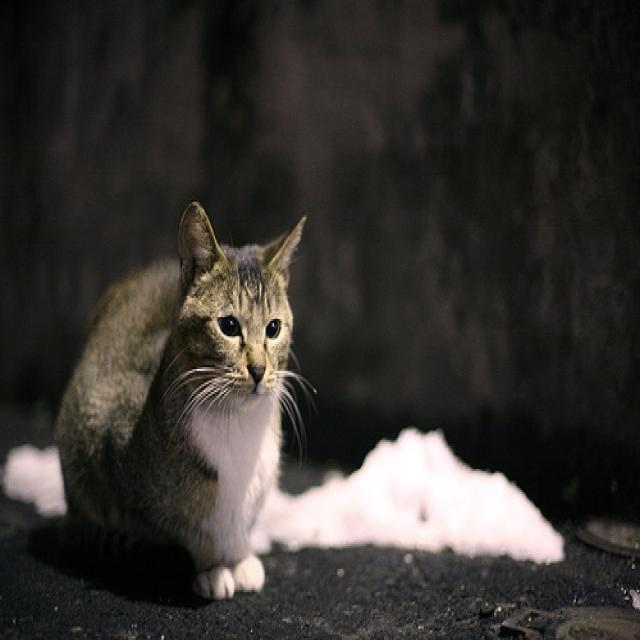left eye: (264, 315, 283, 340)
